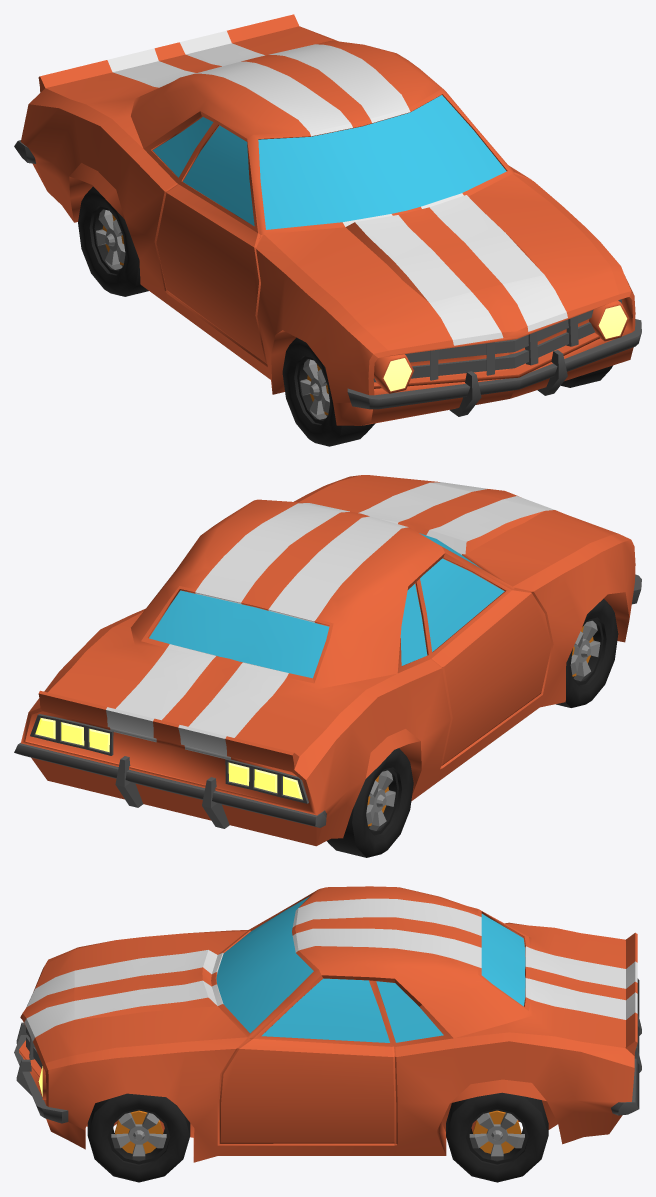
Rendered from Mustang.fbx.
The picture shows the model from 3 angles, top to bottom: view 1: azimuth 30°, elevation 25°; view 2: azimuth 150°, elevation 25°; view 3: azimuth 270°, elevation 25°; orthographic projection. The views are drawn at different scales.
Visible parts, largest first — view 1: Mustang, Mustang_Wheells_Front, Mustang_wheells_Back; view 2: Mustang, Mustang_wheells_Back, Mustang_Wheells_Front; view 3: Mustang, Mustang_wheells_Back, Mustang_Wheells_Front.
Part boxes in pixels (box(x1,y1,x2,y2)): Mustang: box(14, 14, 641, 425); Mustang_Wheells_Front: box(282, 337, 612, 446); Mustang_wheells_Back: box(78, 186, 148, 296); Mustang: box(14, 475, 641, 846); Mustang_wheells_Back: box(327, 748, 413, 857); Mustang_Wheells_Front: box(556, 598, 618, 707); Mustang: box(14, 886, 641, 1162); Mustang_wheells_Back: box(446, 1092, 548, 1182); Mustang_Wheells_Front: box(87, 1093, 190, 1182).
Bounding box in the file's own units: 98.69 × 70.91 × 200.
